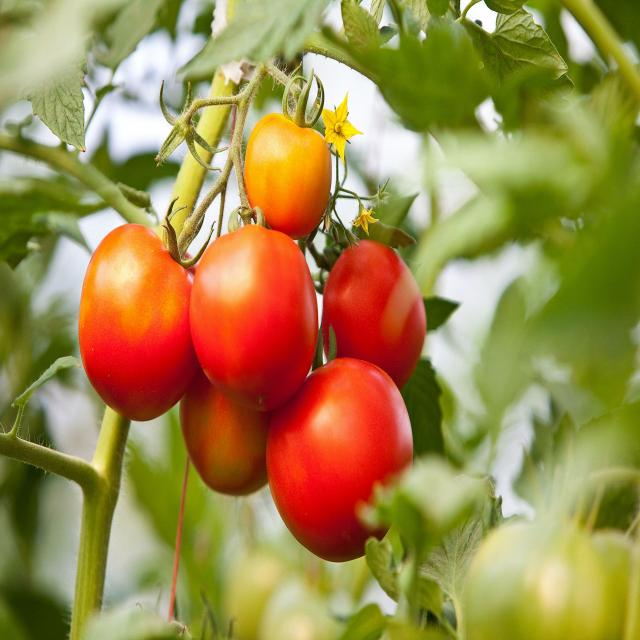level 5: (178, 341, 295, 503), (242, 112, 334, 243)
level 6: (264, 357, 416, 563), (80, 224, 207, 428), (188, 223, 317, 412), (322, 233, 430, 390)
